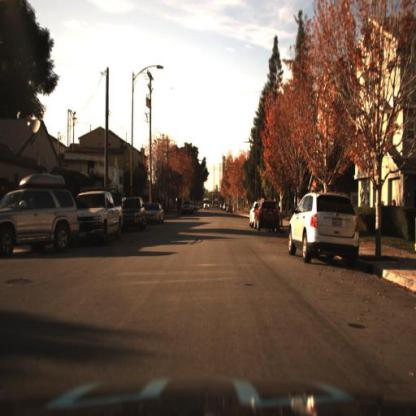car: (1, 175, 82, 257), (288, 189, 363, 270), (289, 190, 363, 269), (73, 187, 126, 246), (75, 192, 127, 247), (255, 196, 284, 234), (119, 197, 147, 233), (122, 195, 147, 234), (145, 199, 167, 230), (144, 202, 166, 226), (180, 198, 196, 217)
